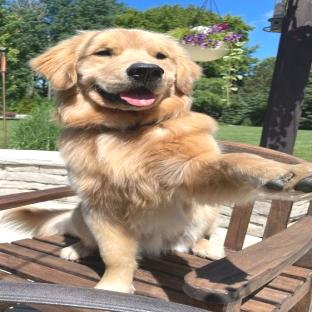Animal: (6, 28, 311, 293)
